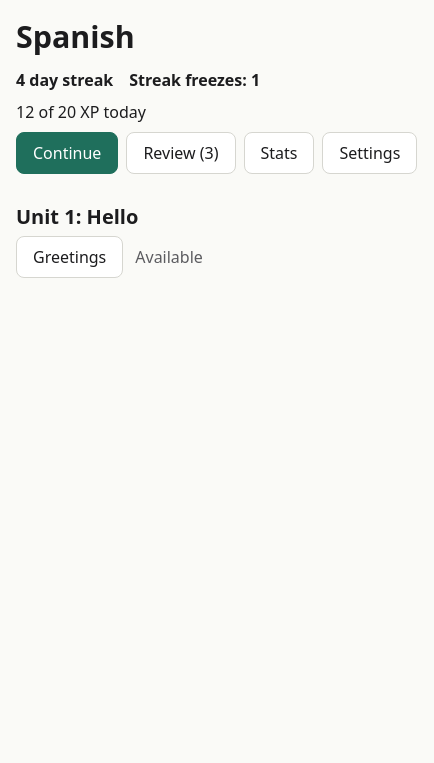
Test case: Esc on a screen the path opened › Esc on Stats returns to the path
Expected: the heading "Spanish" is shown, [16,16,135,57]
Click the button "Stats" at (279, 153), box [244,132,314,174]
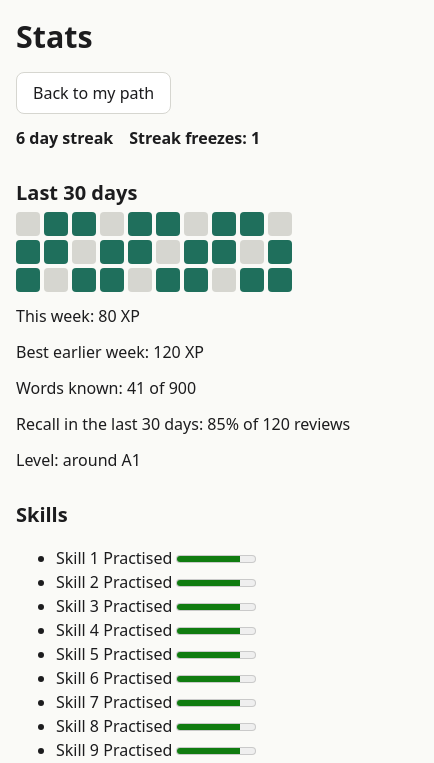
Now the heading "Stats" is shown, box [16,16,93,57]
Now the heading "Spanish" is gone
Press Escape
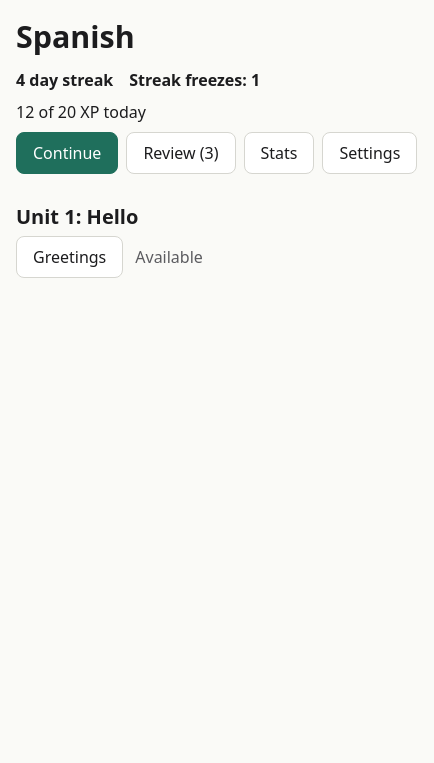
Now the heading "Spanish" is shown, box [16,16,135,57]
